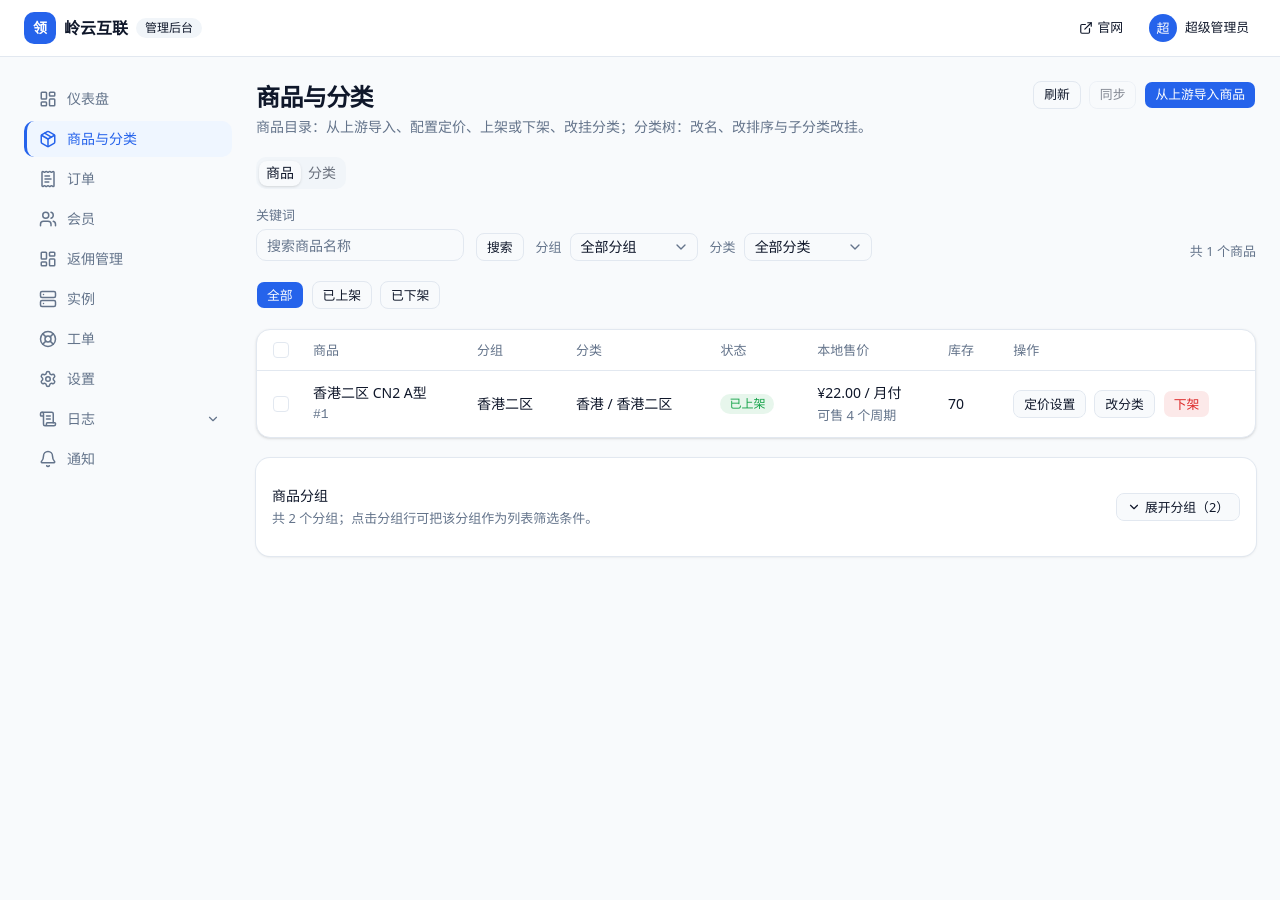
管理后台 · 商品管理 › 改分类：弹窗提交 category_id 并提示导入不再覆盖
The image size is (1280, 900).
Expected: the heading "商品与分类" is shown, [256,80,373,113]
Expected: the text "香港二区 CN2 A型" is shown, [313,383,445,403]
Click the button "改分类". click: (1125, 404)
box: [1094,390,1155,418]
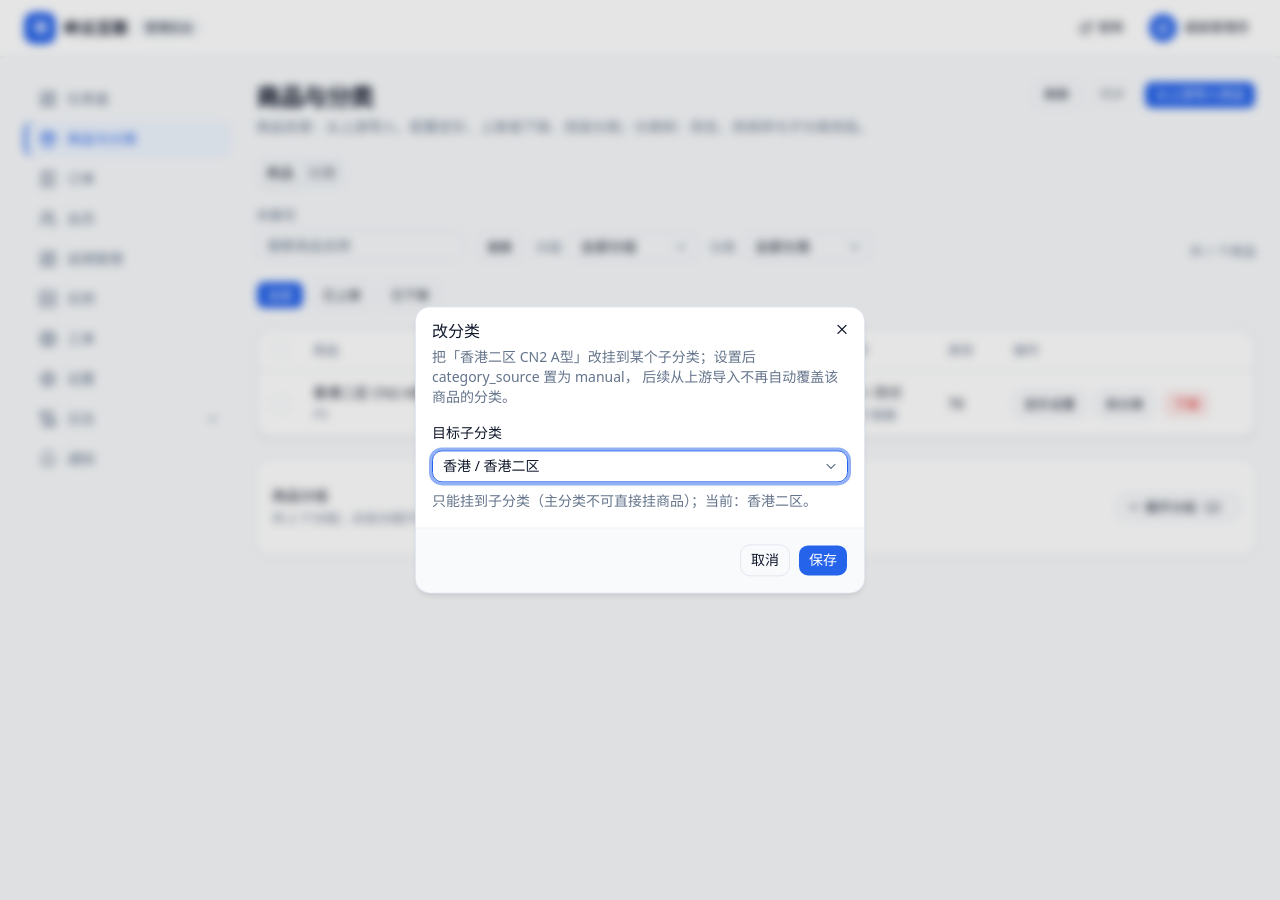
Result: the heading "改分类" is shown at [432,320,480,342]
Click the dropdown named "目标子分类". click: (512, 466)
box: [432,451,848,483]
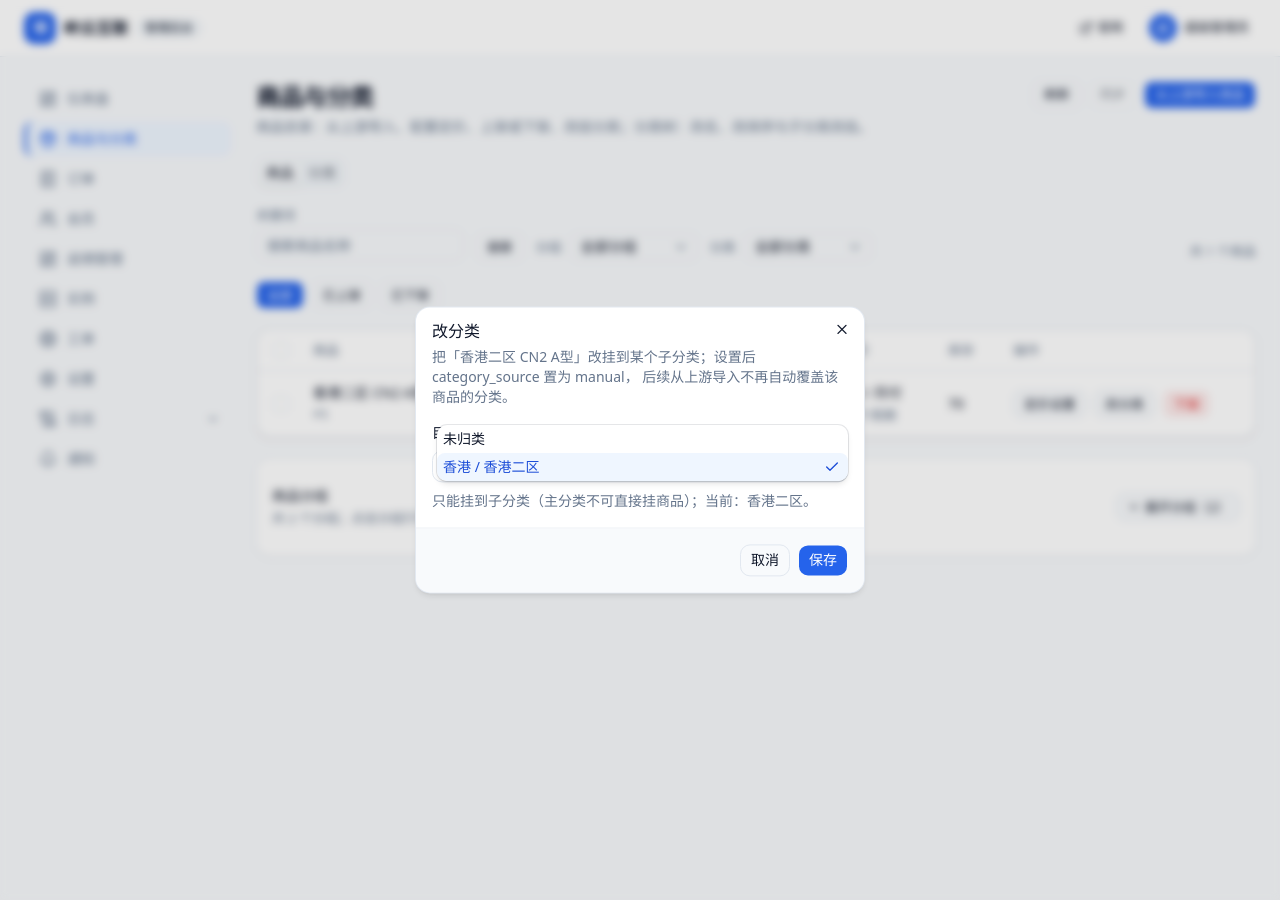
Click the option "未归类". click: (464, 438)
box: [443,429,485,448]
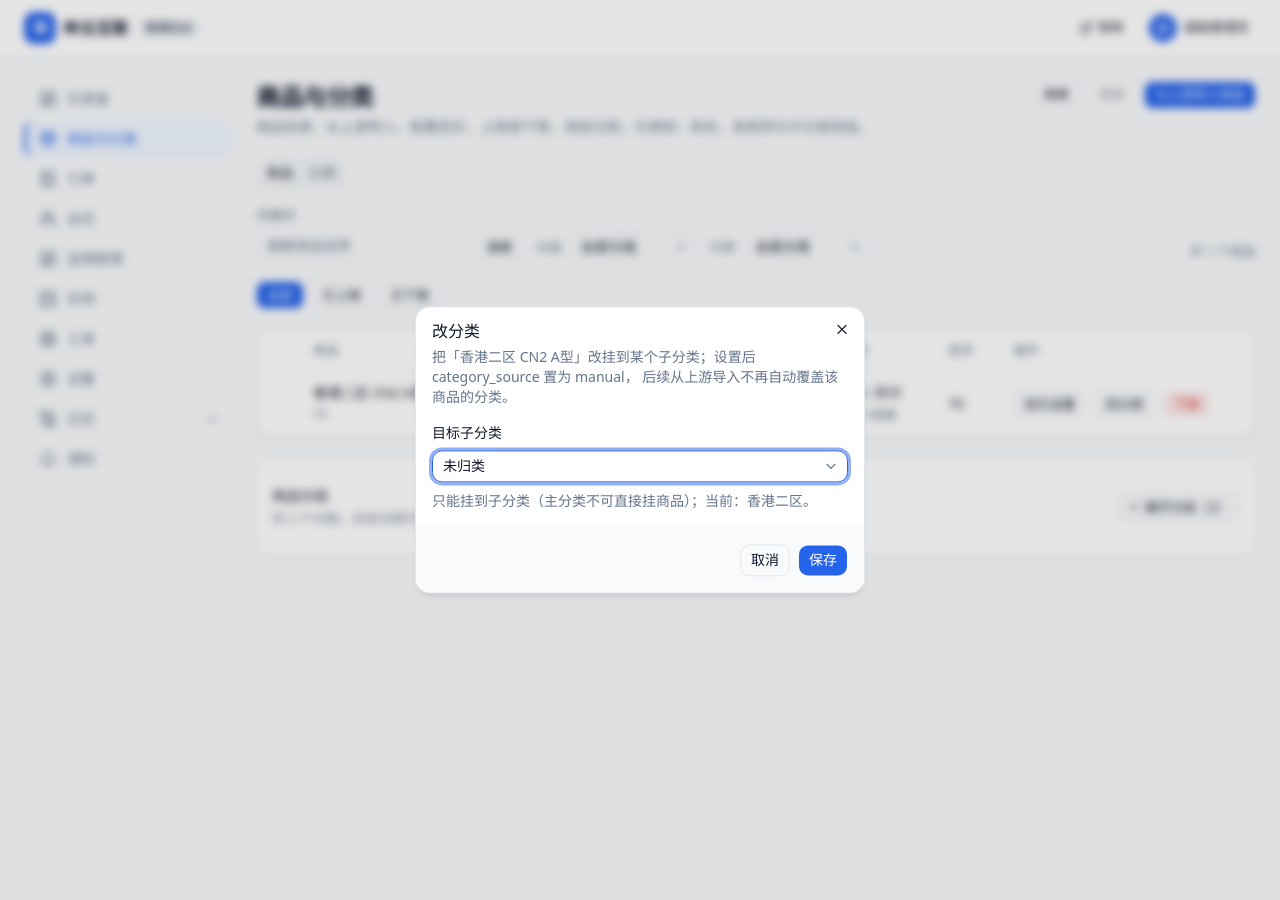
Click the button "保存". click: (823, 561)
box: [798,545,848,577]
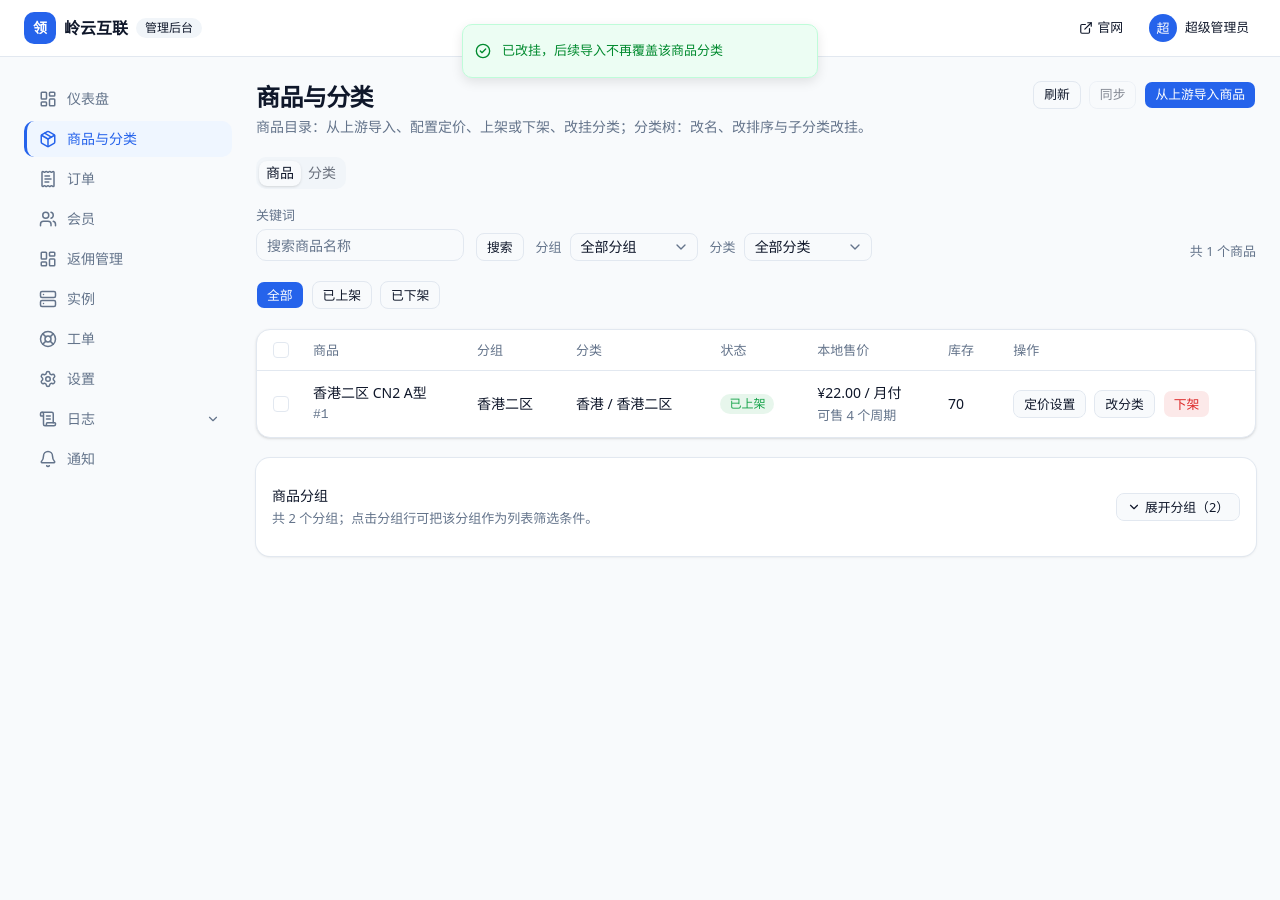
Result: the text "已改挂，后续导入不再覆盖该商品分类" is shown at [502,41,723,60]
